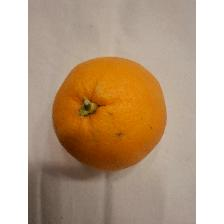Orange: (51, 55, 169, 174)
